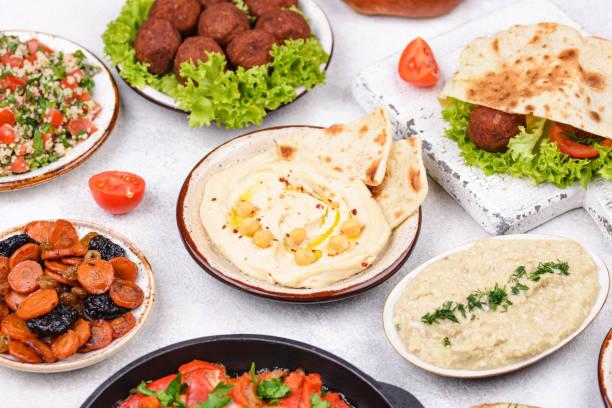Braised Crucian Carp: (356, 1, 603, 247), (176, 125, 416, 302), (381, 233, 606, 380), (109, 0, 328, 121), (1, 218, 155, 373), (1, 28, 118, 192)
